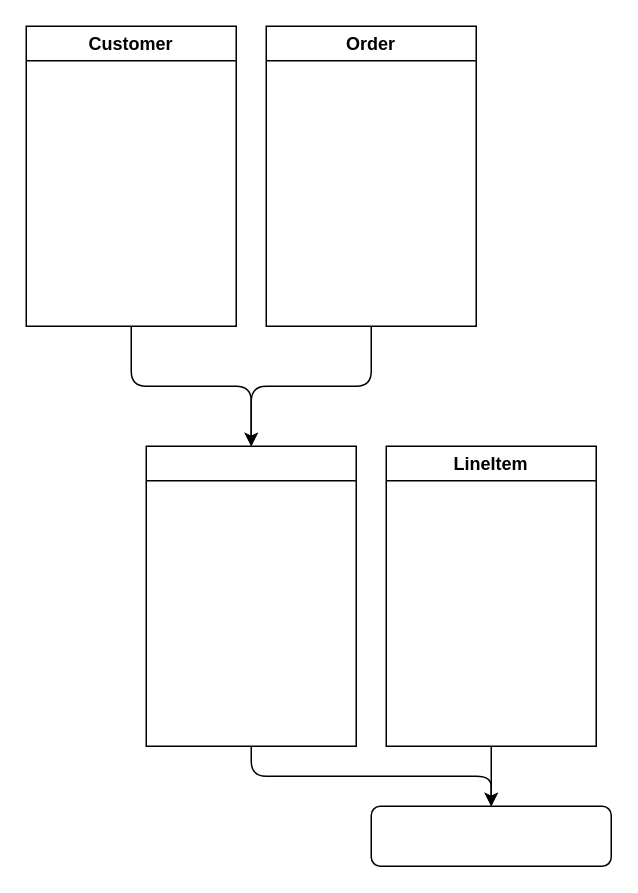
Some shapes in this 638 by 893 pixel diagram are drawn without their labels. Here are the shapes that lost their labels. From the top down, the centre of each, then its label:
the point at 250,595: Cu_Ord_Join
the point at 490,835: Aggregation
